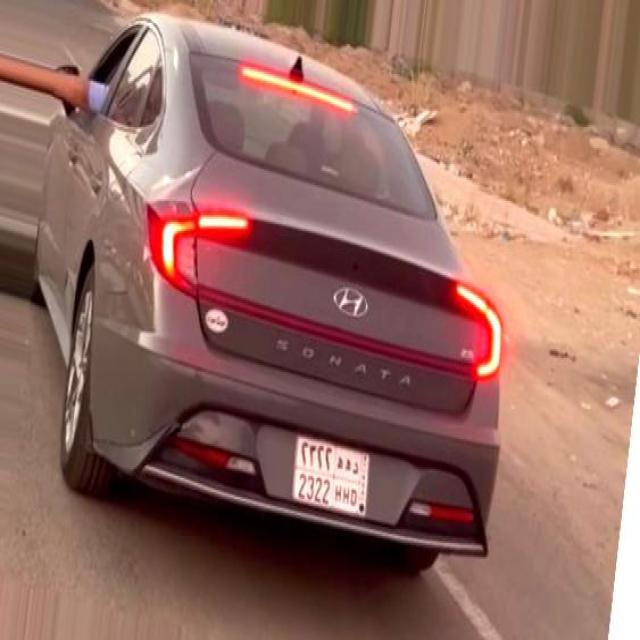Car-plate: (292, 419, 371, 526)
